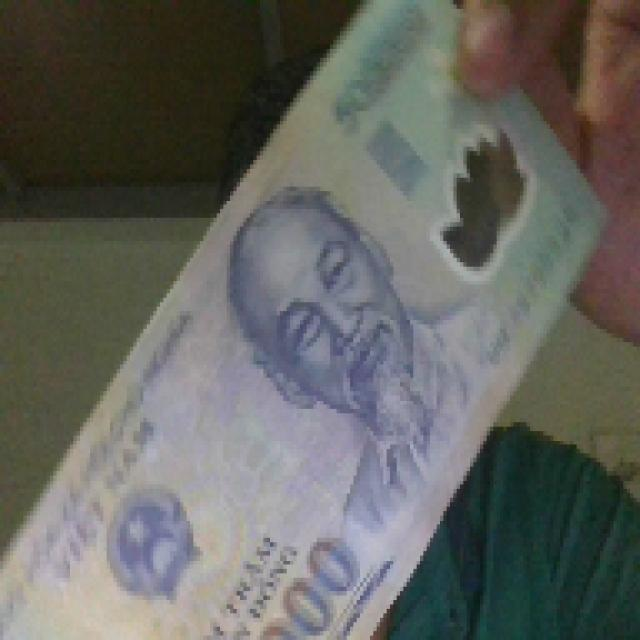500 000 VND: (0, 0, 613, 635)
